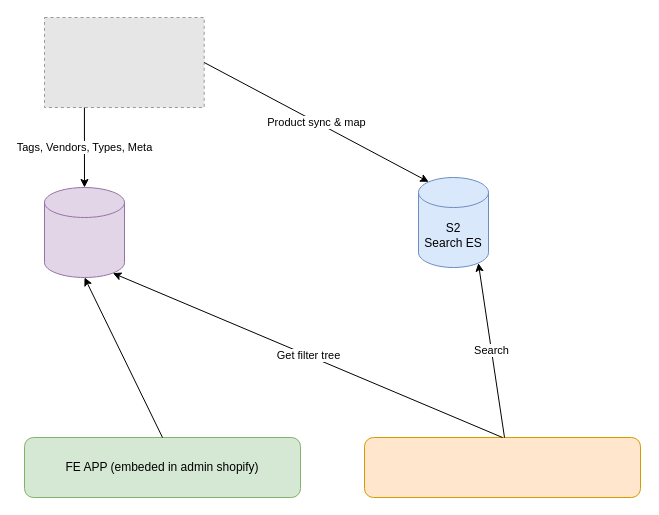
Image size: 659x515. Some labels were removed from this diagram. Grey dashed boxes stand in for pictures. The shapes that lost their labels are listed below. From the top down, each one's centre as x and y in pixels, then its label:
At (x=84, y=232): "S1 APP, API, DB".
At (x=502, y=467): "shop-name.myshoppify.com".
